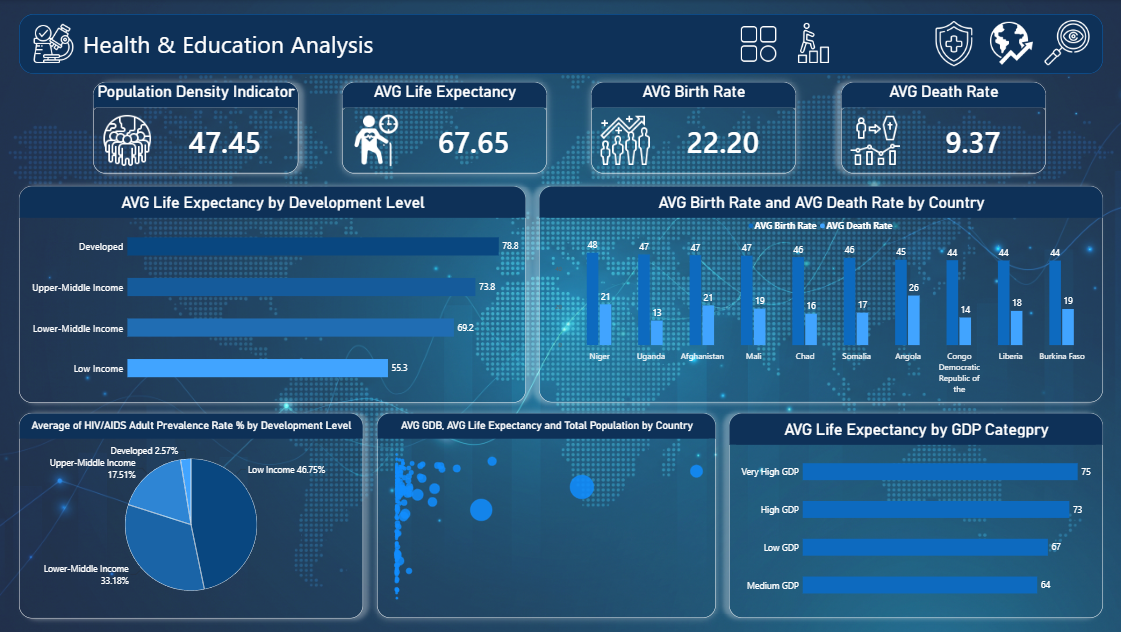

What the dashboard file says about the page in this screenshot:
{"tool":"powerbi","page":{"name":"Health & Education Analysis","canvas":[2560,1440],"ordinal":1},"visuals":[{"type":"shape","box":[45.6,31.9,2469.9,136.7],"z":0},{"type":"cardVisual","title":"AVG Birth Rate","fields":{"Data":["Dax Measures.AVG Birth Rate"]},"box":[1349.7,187.6,467,209],"z":1000},{"type":"cardVisual","title":"AVG Life Expectancy","fields":{"Data":["Dax Measures.AVG Life Expectancy"]},"box":[781.9,187.6,467,209],"z":2000},{"type":"cardVisual","title":"AVG Death Rate","fields":{"Data":["Dax Measures.AVG Death Rate"]},"box":[1917.4,187.6,467,209],"z":3000},{"type":"cardVisual","title":"Population Density Indicator","fields":{"Data":["Dax Measures.Population Density Indicator"]},"box":[213.3,187.6,467.8,209],"z":4000},{"type":"clusteredBarChart","fields":{"Category":["Country Data Comparison.Development Level"],"Y":["Dax Measures.AVG Life Expectancy"]},"box":[45.6,423.8,1155.2,494.4],"z":5000},{"type":"clusteredColumnChart","fields":{"Category":["Country Data Comparison.Country"],"Y":["Dax Measures.AVG Birth Rate","Dax Measures.AVG Death Rate"]},"box":[1230.4,423.8,1285.1,493.5],"z":6000},{"type":"pieChart","fields":{"Category":["Country Data Comparison.Development Level"],"Y":["Avg(Country Data Comparison.HIV/AIDS Adult Prevalence Rate %)"]},"box":[45.6,941,783.9,467.8],"z":7000},{"type":"scatterChart","fields":{"Category":["Country Data Comparison.Country"],"Size":["Dax Measures.Total Population"],"X":["Dax Measures.AVG GDB"],"Y":["Dax Measures.AVG Life Expectancy"]},"box":[861.3,941,772.4,467.1],"z":8000},{"type":"barChart","fields":{"Category":["Country Data Comparison.GDP Categpry"],"Y":["Dax Measures.AVG Life Expectancy"]},"box":[1663.3,941,852.2,467.1],"z":9000},{"type":"textbox","box":[191.4,63.8,710.9,70.6],"z":10000},{"type":"image","box":[2121.3,47.8,109.4,102.5],"z":11000},{"type":"image","box":[2381,45.6,104.8,102.5],"z":12000},{"type":"image","box":[2253.4,47.8,109.4,102.5],"z":13000},{"type":"image","box":[75.2,52.4,98,93.4],"z":14000},{"type":"image","box":[1806.8,47.8,98,100.3],"z":15000},{"type":"image","box":[1674.7,50.1,111.6,100.3],"z":17000}]}

Visuals, with their boxes in screenshot pixels (x1, y1, x2, y2), scaled from the page's 2560x1440 canvas onto the 1121x632 screenshot:
shape: Rect(20, 14, 1102, 74)
"AVG Birth Rate" cardVisual: Rect(591, 82, 796, 174)
"AVG Life Expectancy" cardVisual: Rect(342, 82, 547, 174)
"AVG Death Rate" cardVisual: Rect(840, 82, 1044, 174)
"Population Density Indicator" cardVisual: Rect(93, 82, 298, 174)
clusteredBarChart - Country Data Comparison.Development Level x Dax Measures.AVG Life Expectancy: Rect(20, 186, 526, 403)
clusteredColumnChart - Country Data Comparison.Country x Dax Measures.AVG Birth Rate: Rect(539, 186, 1102, 403)
pieChart - Country Data Comparison.Development Level x Avg(Country Data Comparison.HIV/AIDS Adult Prevalence Rate %): Rect(20, 413, 363, 618)
scatterChart - Country Data Comparison.Country x Dax Measures.Total Population: Rect(377, 413, 715, 618)
barChart - Country Data Comparison.GDP Categpry x Dax Measures.AVG Life Expectancy: Rect(728, 413, 1102, 618)
textbox: Rect(84, 28, 395, 59)
image: Rect(929, 21, 977, 66)
image: Rect(1043, 20, 1089, 65)
image: Rect(987, 21, 1035, 66)
image: Rect(33, 23, 76, 64)
image: Rect(791, 21, 834, 65)
image: Rect(733, 22, 782, 66)
